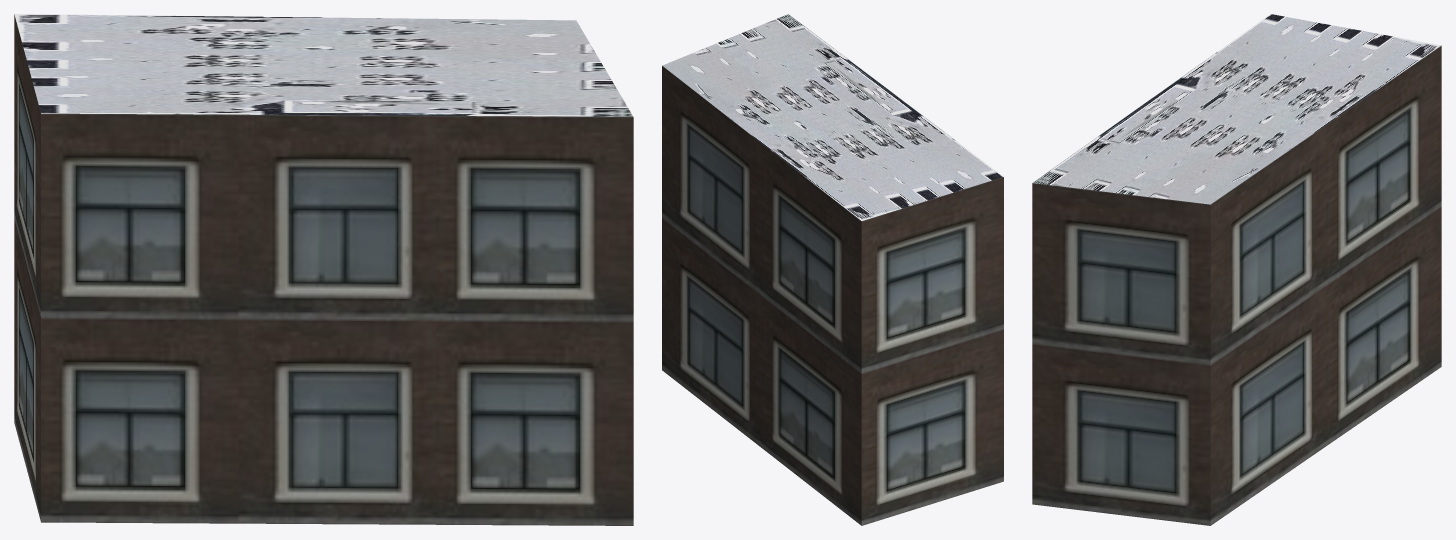
The model's file is ResTex__2258.fbx.
3 renders of one model, left to right at view 1: azimuth 30°, elevation 25°; view 2: azimuth 150°, elevation 25°; view 3: azimuth 270°, elevation 25°, orthographic. The views are drawn at different scales.
Parts seen in each view (by area): view 1: CityEngineMaterial_16_m, CityEngineMaterial_15_m; view 2: CityEngineMaterial_16_m, CityEngineMaterial_15_m; view 3: CityEngineMaterial_16_m, CityEngineMaterial_15_m.
Part boxes in pixels (box(x1,y1,x2,y2)): CityEngineMaterial_16_m: box(14, 14, 633, 525); CityEngineMaterial_15_m: box(14, 14, 633, 116); CityEngineMaterial_16_m: box(662, 66, 1003, 525); CityEngineMaterial_15_m: box(662, 14, 1003, 220); CityEngineMaterial_16_m: box(1032, 45, 1441, 525); CityEngineMaterial_15_m: box(1033, 14, 1441, 204).
Size of the model in its own units: 7.63 by 6 by 6.93.
Materials: 2 (2 with a texture image).
